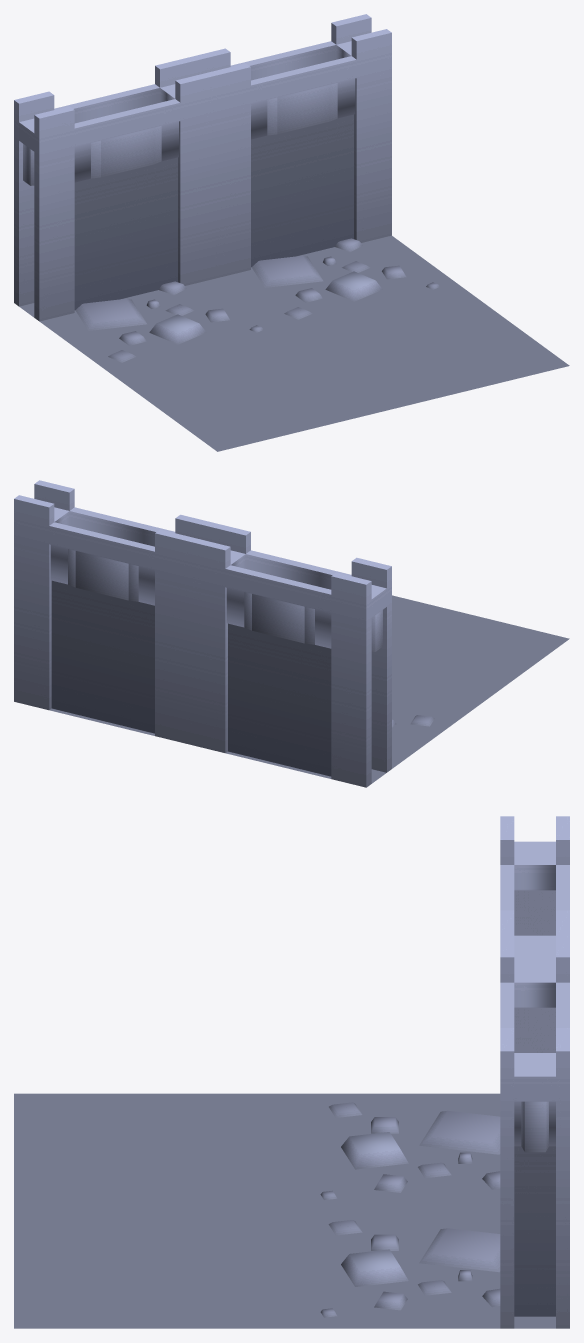
File: Tile_1.glb
3 renders of one model, top to bottom at view 1: azimuth 30°, elevation 25°; view 2: azimuth 150°, elevation 25°; view 3: azimuth 270°, elevation 25°, orthographic. The views are drawn at different scales.
Parts seen in each view (by area): view 1: tile_1; view 2: tile_1; view 3: tile_1.
Boxes of the visible parts, x1=… form: tile_1: x1=14, y1=14, x2=569, y2=451; tile_1: x1=14, y1=480, x2=569, y2=787; tile_1: x1=14, y1=816, x2=569, y2=1328.
Bounding box in the file's own units: 2 × 1.1 × 2.
Materials: 6 (6 with a texture image).
